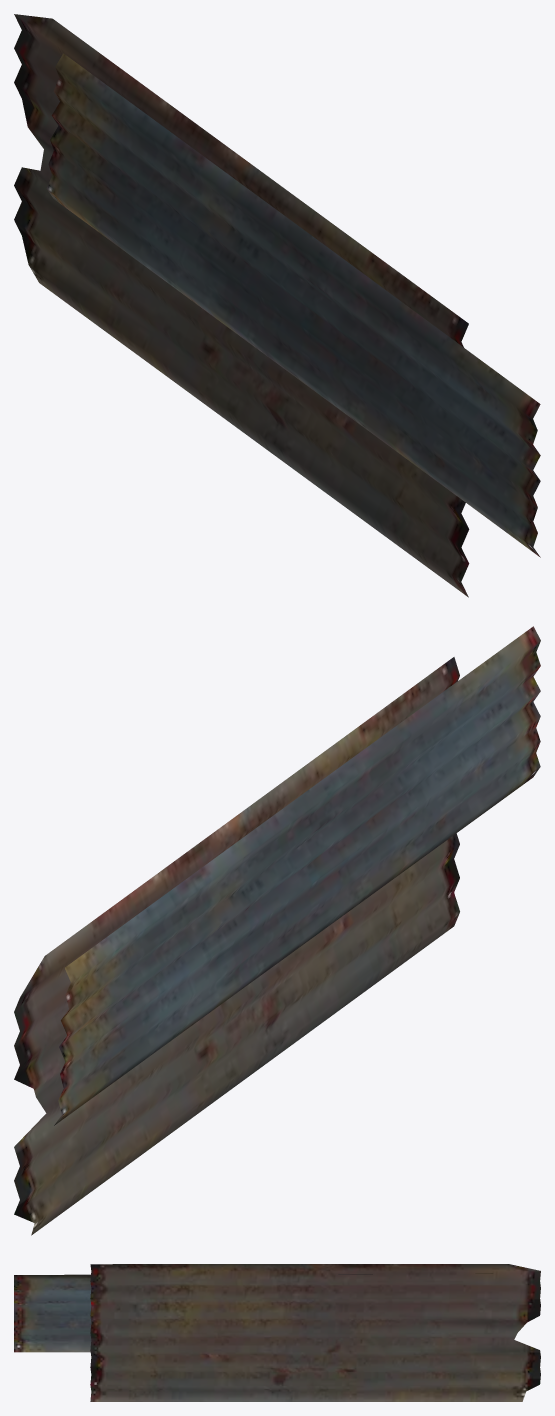
The model's file is casino_sheet_metal_side_bottom_c.glb.
3 views of the same model, one above another, from view 1: azimuth 30°, elevation 25°; view 2: azimuth 150°, elevation 25°; view 3: azimuth 270°, elevation 25° (orthographic). The views are drawn at different scales.
Visible parts, largest first — view 1: casino_sheet_metal_side_bottom_c; view 2: casino_sheet_metal_side_bottom_c; view 3: casino_sheet_metal_side_bottom_c.
Part boxes in pixels (<box>): casino_sheet_metal_side_bottom_c: <box>14,14,540,597</box>; casino_sheet_metal_side_bottom_c: <box>14,626,540,1235</box>; casino_sheet_metal_side_bottom_c: <box>14,1264,540,1401</box>.
Bounding box in the file's own units: 0.0644 × 1.38 × 4.77.
1 material, 1 textured.
